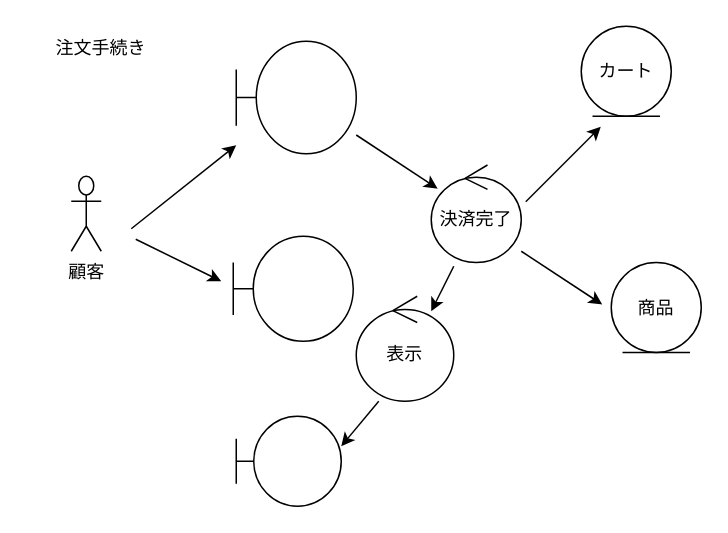
Some shapes in this 728 by 533 pixel diagram are drawn without their labels. The box of each missing label's shape, as (x1, y1, x2, y2) in pixels:
在庫切れ 画面: (232, 235, 353, 341)
注文完了画面: (235, 415, 341, 506)
購入手続き画面: (235, 40, 356, 154)
